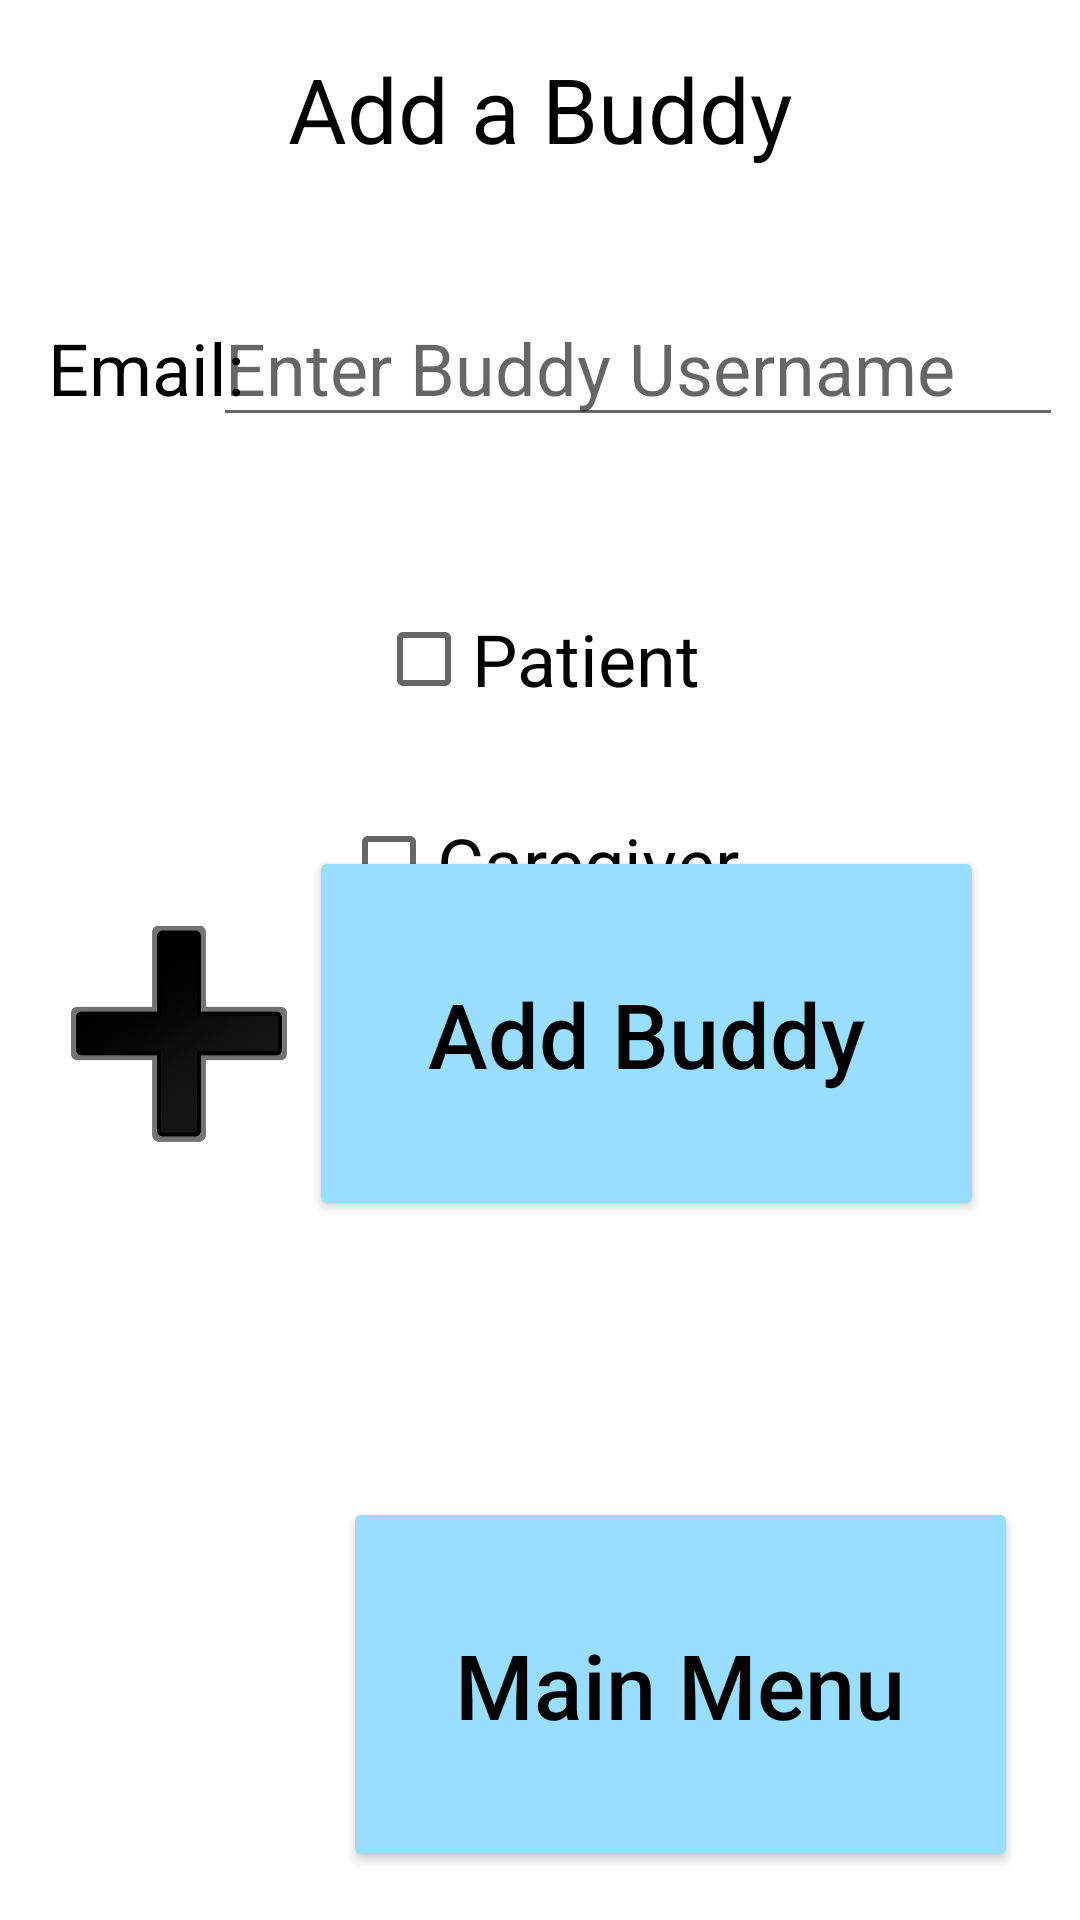

Where to tap for icons on this 1080*1920 app screen, as (x,y):
plus: (179,1034)
